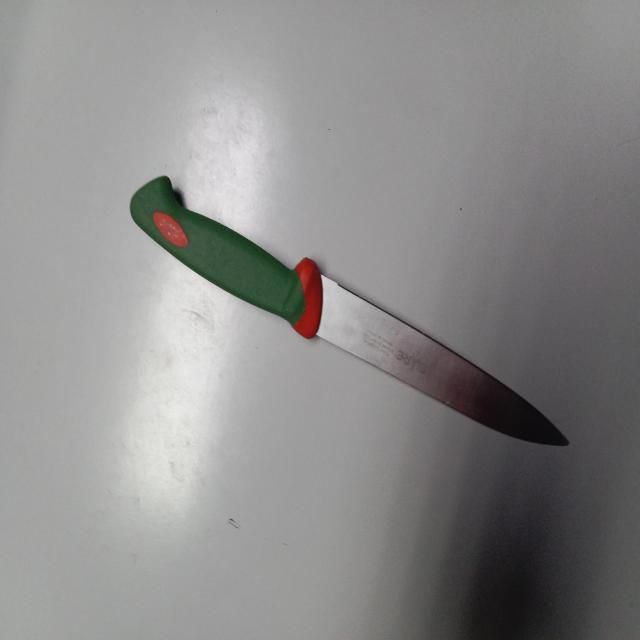Knife: (130, 175, 570, 446)
